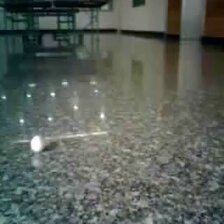w: (29, 134, 45, 153)
